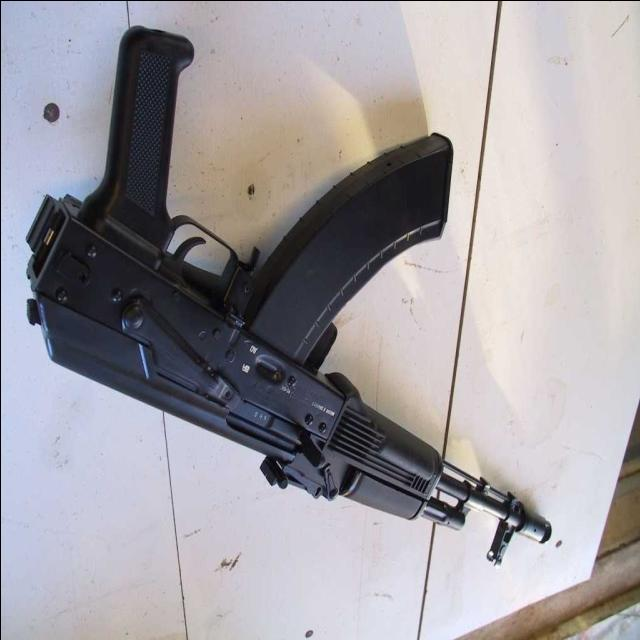heavyweapon: (23, 23, 591, 573)
